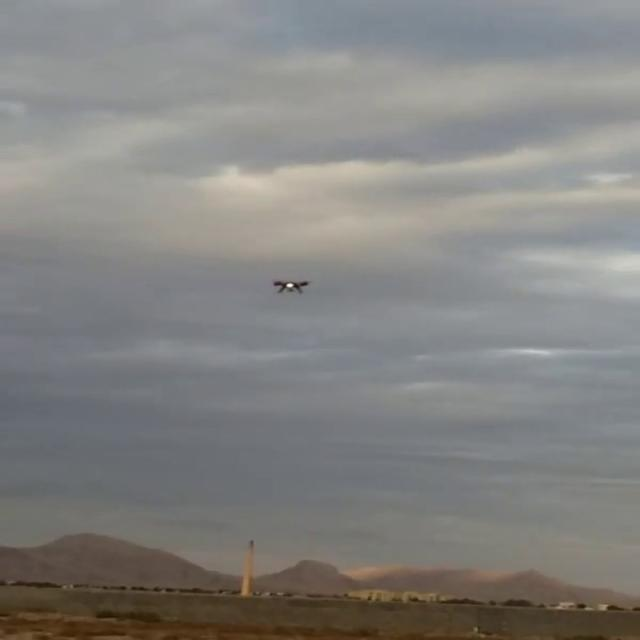drone: (266, 276, 316, 298)
